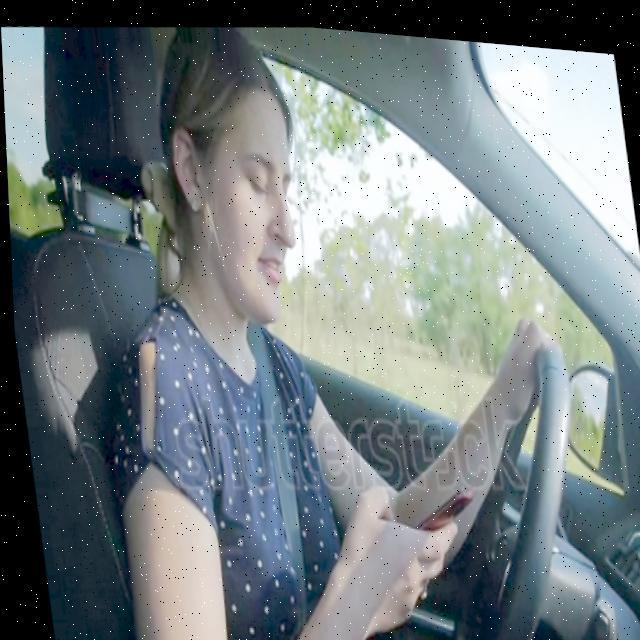PhoneCall: (394, 471, 476, 521)
